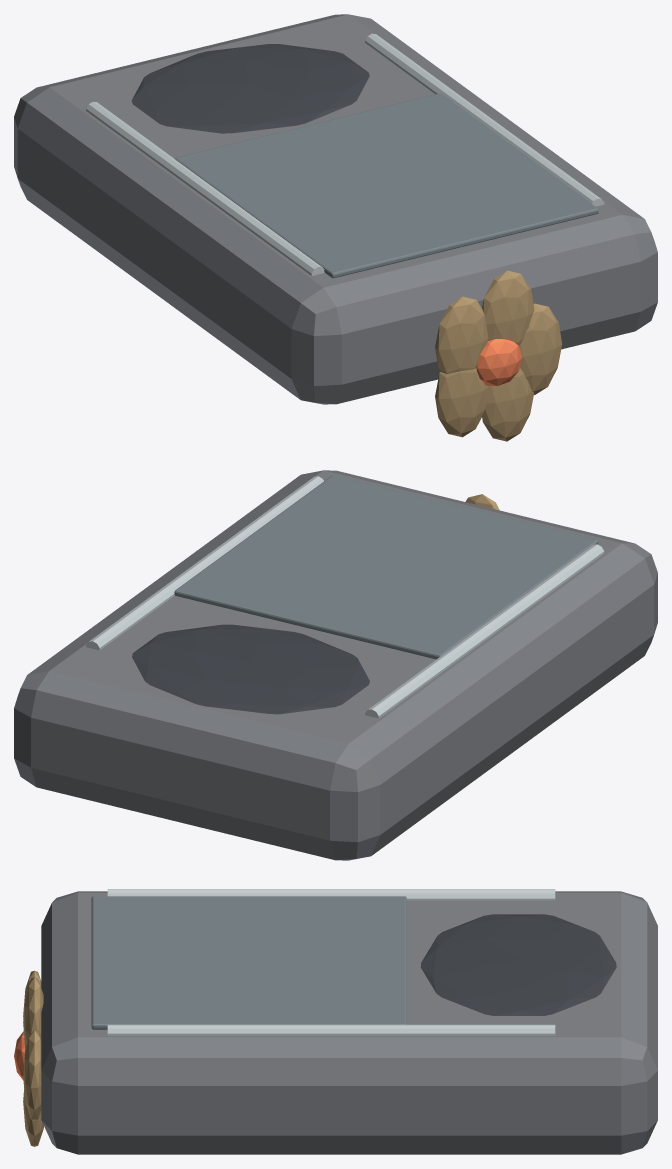
File: writing_suzuri.glb
3 renders of one model, top to bottom at view 1: azimuth 30°, elevation 25°; view 2: azimuth 150°, elevation 25°; view 3: azimuth 270°, elevation 25°, orthographic.
Parts seen in each view (by area): view 1: Solid carved suzuri inkstone, Flat ink grinding land, Recessed wet inkwell, Carved side relief, Carved side relief.001, Carved suzuri motif_petal02, Carved suzuri motif_petal01, Carved suzuri motif_petal03, Carved suzuri motif_petal00, Carved suzuri motif_petal04, Carved suzuri motif_center; view 2: Solid carved suzuri inkstone, Flat ink grinding land, Recessed wet inkwell, Carved side relief, Carved side relief.001; view 3: Solid carved suzuri inkstone, Flat ink grinding land, Recessed wet inkwell, Carved side relief.001, Carved side relief, Carved suzuri motif_petal00, Carved suzuri motif_petal01, Carved suzuri motif_petal04.
Boxes of the visible parts, bbox=[...] form: Solid carved suzuri inkstone: bbox=[14, 14, 657, 404]; Flat ink grinding land: bbox=[174, 93, 598, 278]; Recessed wet inkwell: bbox=[131, 44, 369, 133]; Carved side relief: bbox=[86, 102, 324, 275]; Carved side relief.001: bbox=[365, 33, 604, 206]; Carved suzuri motif_petal02: bbox=[435, 296, 488, 373]; Carved suzuri motif_petal01: bbox=[482, 270, 534, 346]; Carved suzuri motif_petal03: bbox=[435, 368, 488, 437]; Carved suzuri motif_petal00: bbox=[519, 303, 562, 394]; Carved suzuri motif_petal04: bbox=[482, 368, 533, 441]; Carved suzuri motif_center: bbox=[476, 339, 522, 385]; Solid carved suzuri inkstone: bbox=[14, 470, 657, 860]; Flat ink grinding land: bbox=[174, 475, 598, 659]; Recessed wet inkwell: bbox=[132, 624, 369, 714]; Carved side relief: bbox=[365, 544, 604, 718]; Carved side relief.001: bbox=[86, 476, 323, 650]; Solid carved suzuri inkstone: bbox=[41, 891, 657, 1154]; Flat ink grinding land: bbox=[91, 896, 406, 1029]; Recessed wet inkwell: bbox=[420, 914, 616, 1015]; Carved side relief.001: bbox=[107, 1024, 555, 1035]; Carved side relief: bbox=[107, 889, 555, 900]; Carved suzuri motif_petal00: bbox=[23, 1030, 41, 1120]; Carved suzuri motif_petal01: bbox=[23, 977, 43, 1047]; Carved suzuri motif_petal04: bbox=[23, 1089, 43, 1146].
Bounding box in the file's own units: 1.26 × 0.6128 × 1.95.
